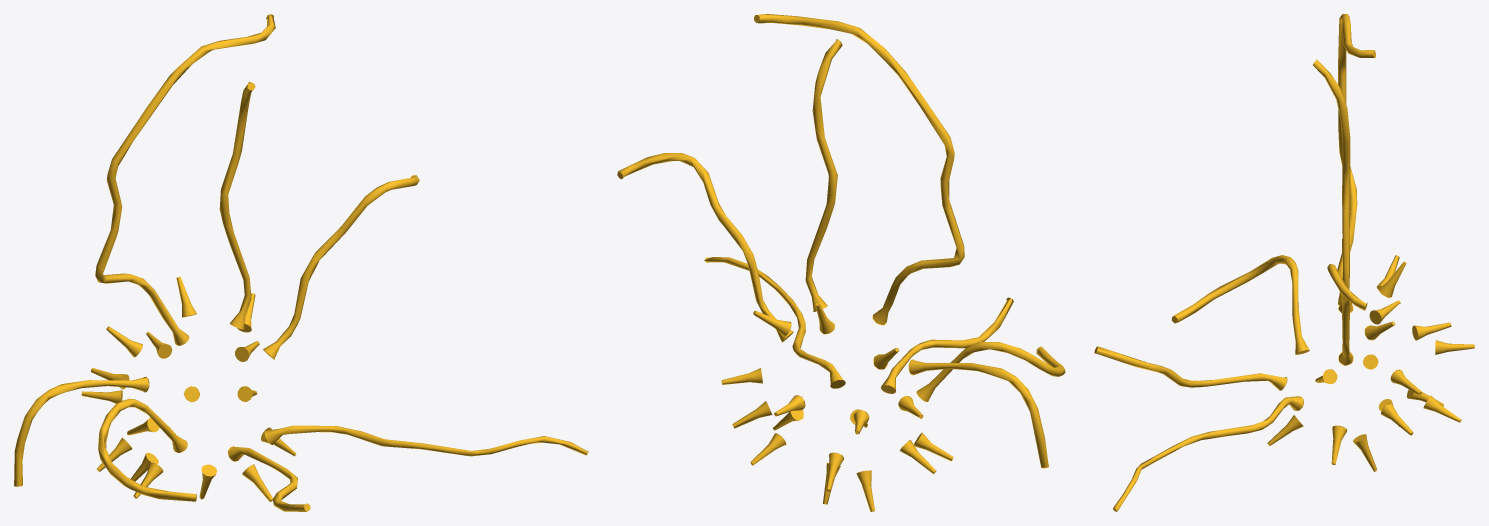
File: microtubules.glb
The picture shows the model from 3 angles, left to right: view 1: azimuth 30°, elevation 25°; view 2: azimuth 150°, elevation 25°; view 3: azimuth 270°, elevation 25°; orthographic projection. The views are drawn at different scales.
Visible parts, largest first — view 1: Microtubules; view 2: Microtubules; view 3: Microtubules.
Boxes of the visible parts, left/top/right/bottom form: Microtubules: left=14, top=14, right=588, bottom=511; Microtubules: left=617, top=14, right=1065, bottom=511; Microtubules: left=1094, top=14, right=1474, bottom=511.
Size of the model in its own units: 8.74 by 8.55 by 6.51.
